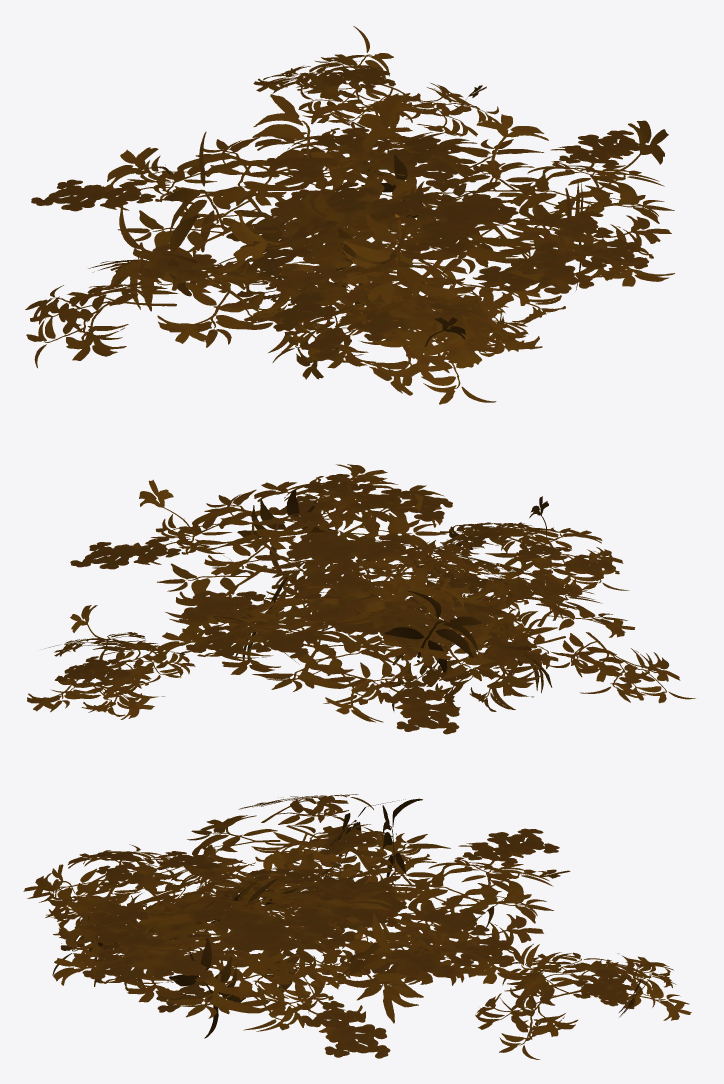
3 renders of one model, top to bottom at view 1: azimuth 30°, elevation 25°; view 2: azimuth 150°, elevation 25°; view 3: azimuth 270°, elevation 25°, orthographic. The views are drawn at different scales.
Visible parts, largest first — view 1: SM_DR_Leaf_Piles_02_LOD0; view 2: SM_DR_Leaf_Piles_02_LOD0; view 3: SM_DR_Leaf_Piles_02_LOD0.
Boxes of the visible parts, x1,y1,x2,y2 form: SM_DR_Leaf_Piles_02_LOD0: (25, 26, 674, 404); SM_DR_Leaf_Piles_02_LOD0: (27, 464, 695, 734); SM_DR_Leaf_Piles_02_LOD0: (23, 794, 691, 1059).
Bounding box in the file's own units: 1.15 × 0.2893 × 1.11.
1 material, 1 textured.
